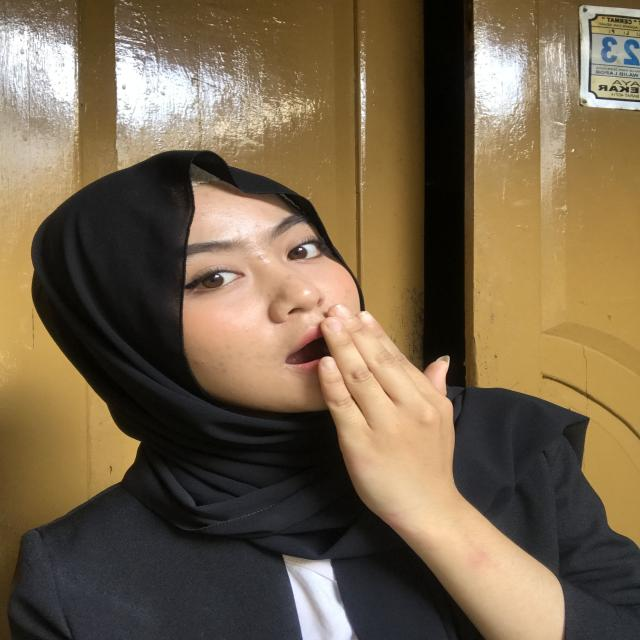ngantuk: (256, 284, 522, 545)
